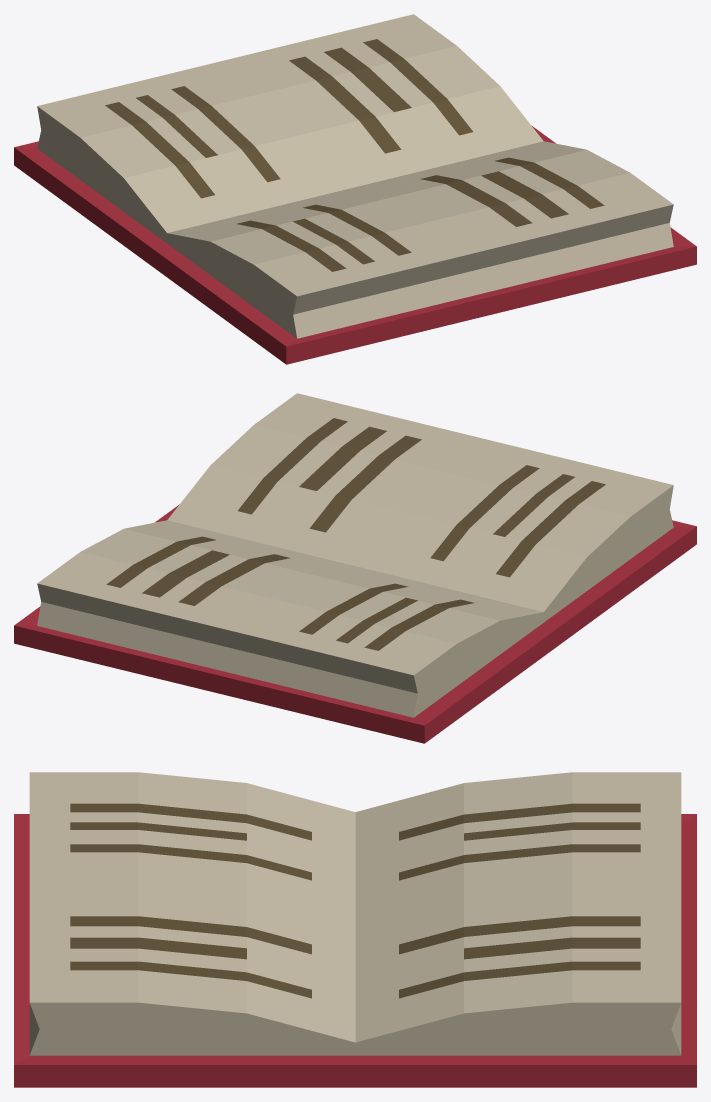
File: grimoire.glb
The picture shows the model from 3 angles, top to bottom: view 1: azimuth 30°, elevation 25°; view 2: azimuth 150°, elevation 25°; view 3: azimuth 270°, elevation 25°; orthographic projection. The views are drawn at different scales.
Visible parts, largest first — view 1: Book_Open; view 2: Book_Open; view 3: Book_Open.
Part boxes in pixels (x1=…): Book_Open: x1=14, y1=14, x2=696, y2=364; Book_Open: x1=14, y1=393, x2=696, y2=743; Book_Open: x1=14, y1=772, x2=696, y2=1087.
Bounding box in the file's own units: 1.19 × 0.1658 × 1.37.
